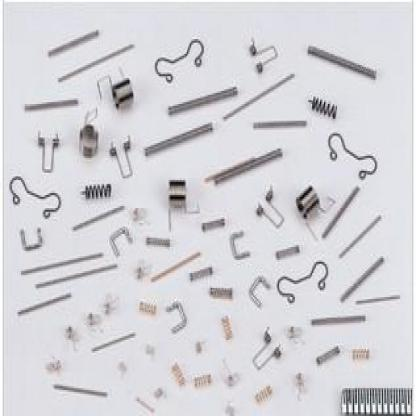FOD: (96, 66, 134, 107), (78, 105, 100, 157), (307, 93, 338, 121), (79, 180, 113, 204), (137, 298, 158, 315), (145, 236, 171, 249), (193, 372, 212, 389)
